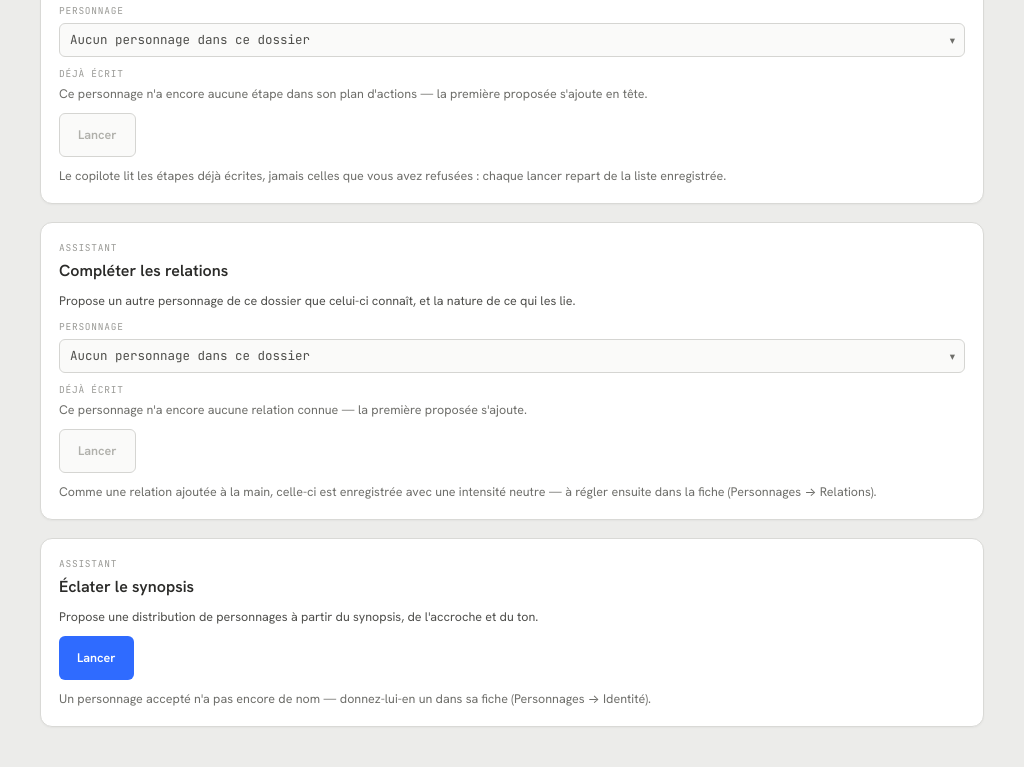
it: distribution - la recette ecrit exactement les six cles attendues (critere 7, KR-221/165) › portee vaut PORTEE_INITIALE (importee), plan_actions et savoirs sont vides, nom absent, aucune autre cle
The width and height of the screenshot is (1024, 767).
(page scrolled)
Click the button "Lancer" below "Éclater le synopsis" at (96, 658), box top-left (59, 636), bottom-right (134, 680)
(page scrolled)
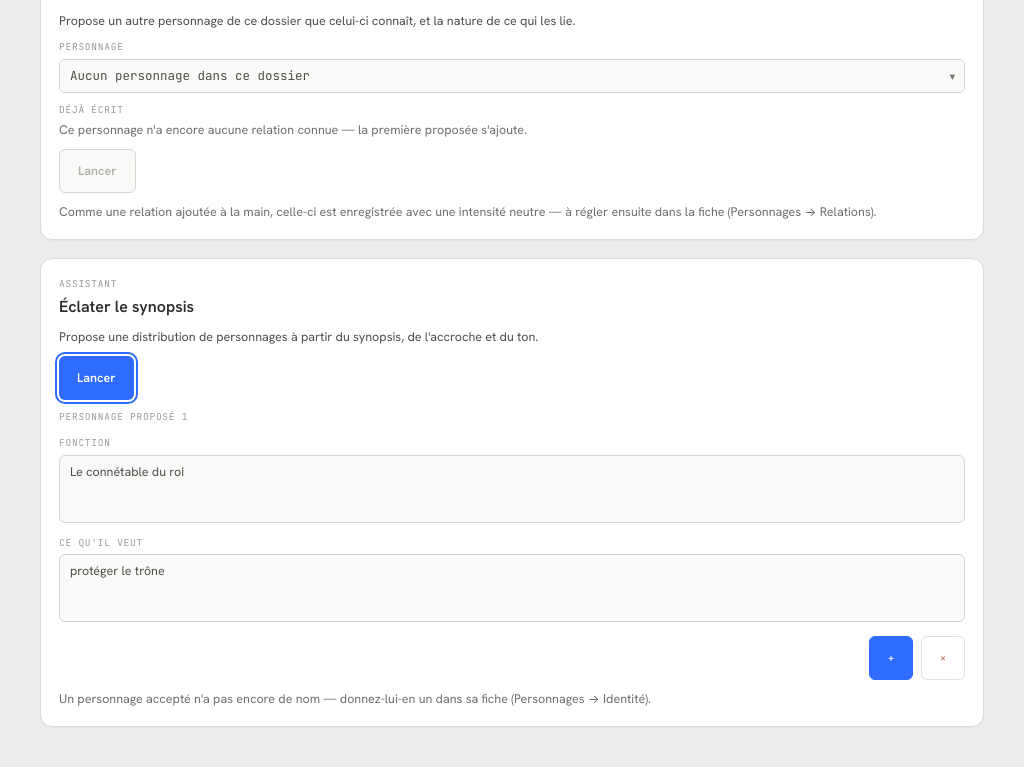
Expected: the button named "Accepter la proposition" is shown
Click the button named "Accepter la proposition" at (891, 658), box top-left (869, 636), bottom-right (913, 680)
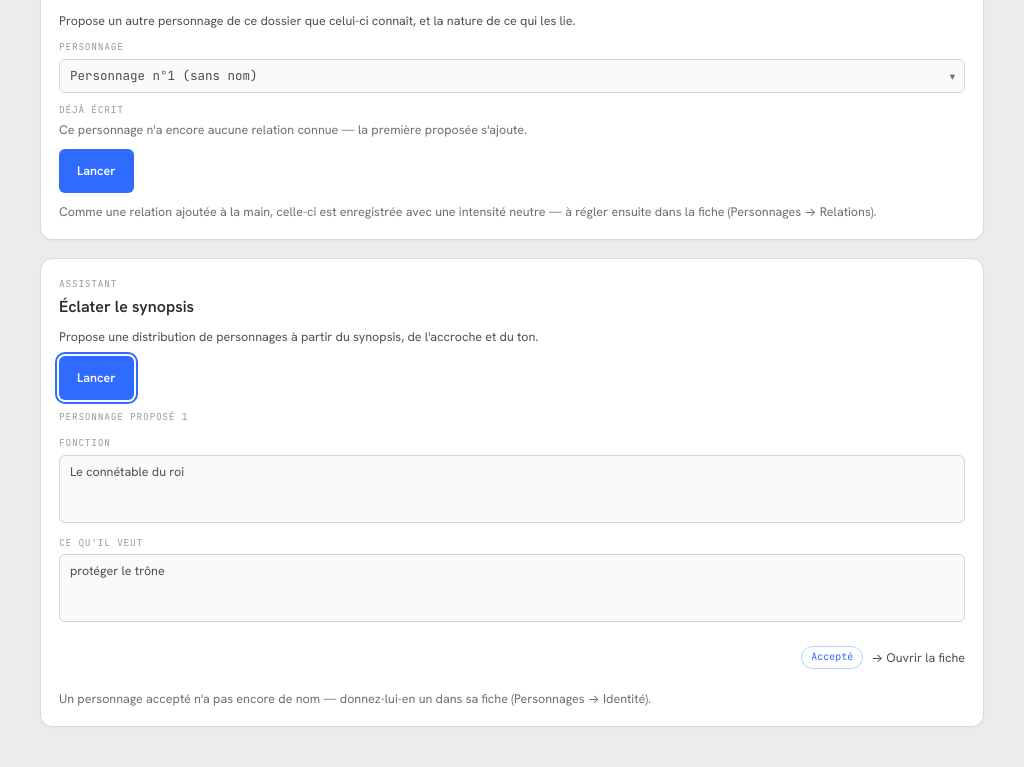
Expected: the text "Accepté" is shown, top-left (801, 646), bottom-right (863, 669)
